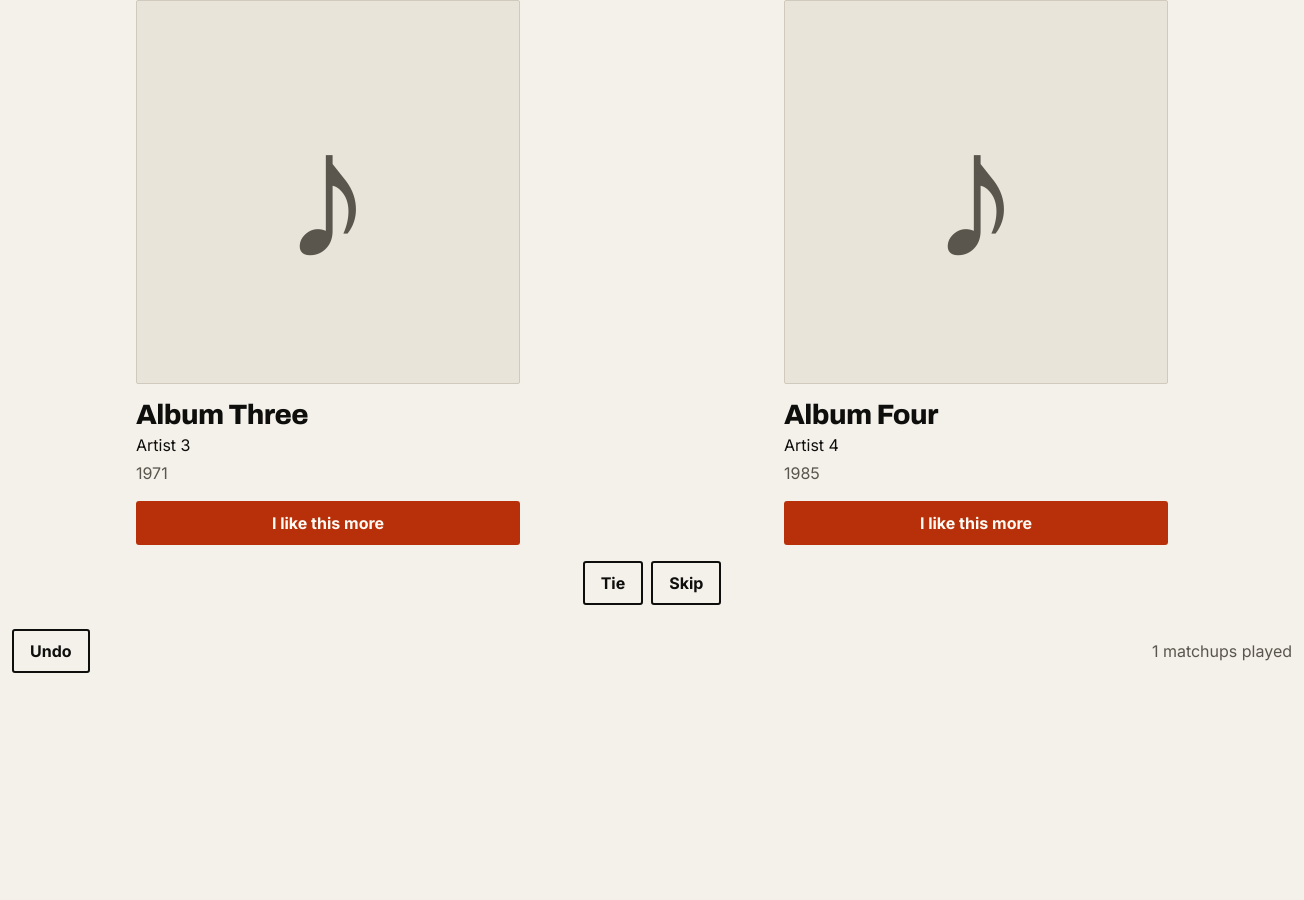
it: matchup screen › undo serves the undone pair again and shows the line
Click the button "Undo". click: [51, 651]
box: [12,629,90,673]
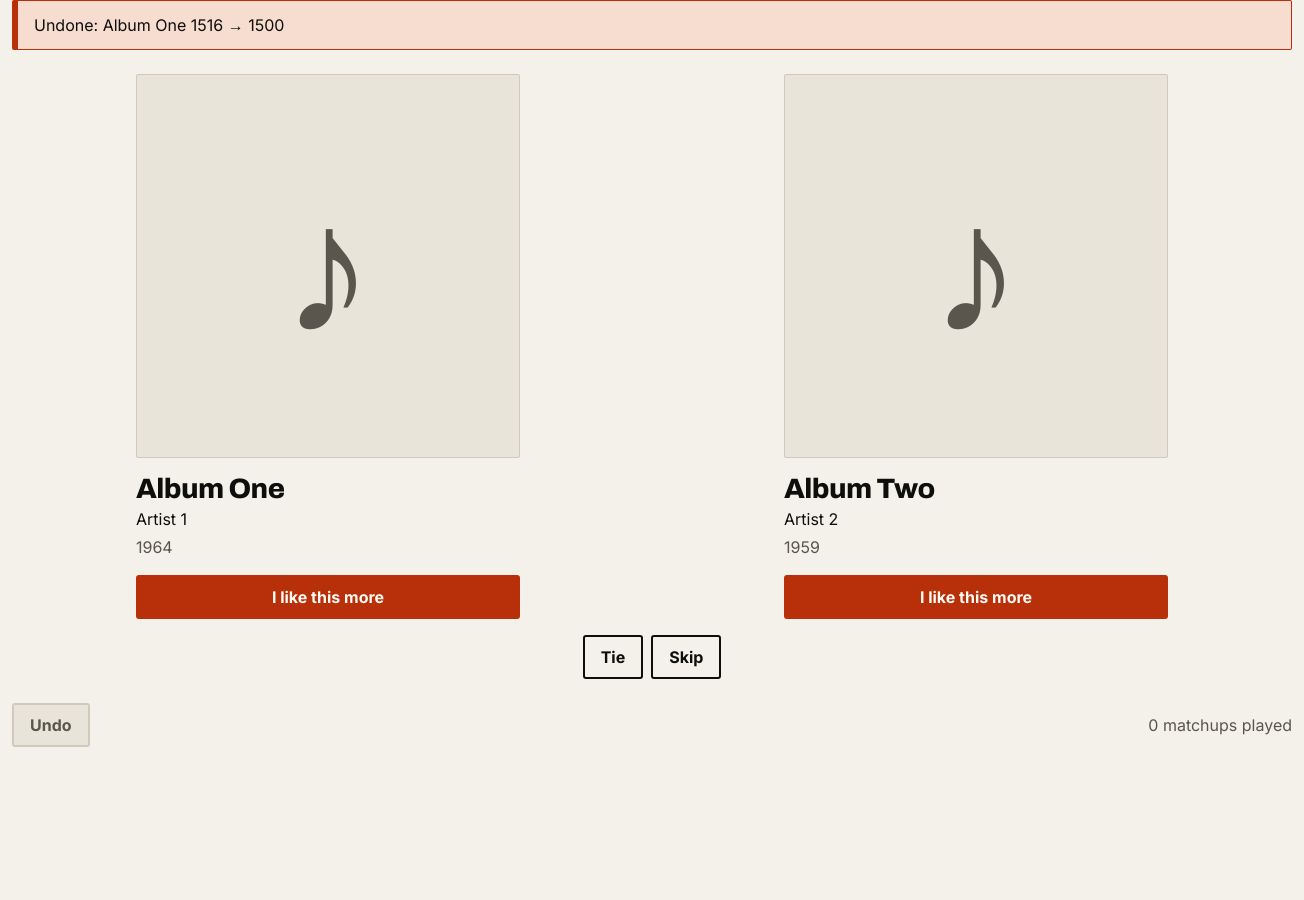
Now the text "Album One" is shown, box [136,473,284,504]
Now the text "Undone: Album One 1516 → 1500" is shown, box [12,0,1292,50]
Now the text "0 matchups played" is shown, box [1148,713,1292,737]
